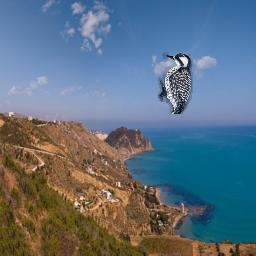Woodpecker: (158, 51, 193, 114)
